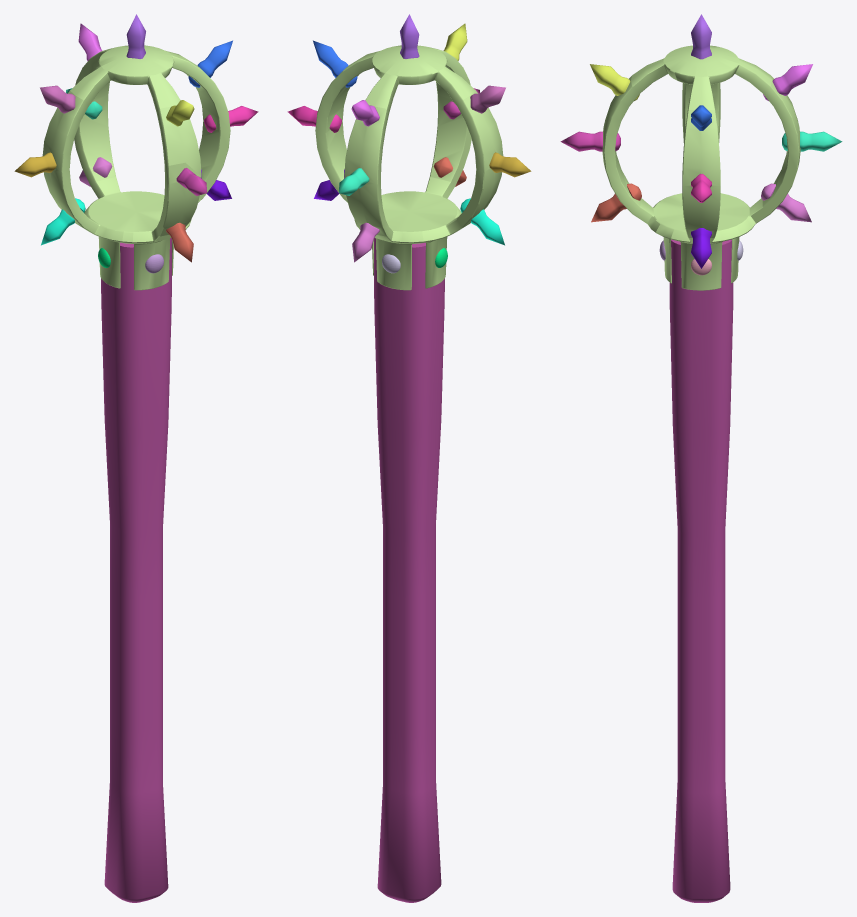
3 renders of one model, left to right at view 1: azimuth 30°, elevation 25°; view 2: azimuth 150°, elevation 25°; view 3: azimuth 270°, elevation 25°, orthographic.
Visible parts, largest first — view 1: Handle_0, split_parent_7, Spikes.001_0, Spikes.005_0, Spikes.004_0.074, Spikes.001_0.074, Spikes_0.073, Spikes.003_0, Spikes_0, Spikes 2_0.073, Spikes.002_0; view 2: Handle_0, split_parent_7, Spikes.001_0, Spikes.005_0, Spikes.004_0.074, Spikes.001_0.074, Spikes_0.073, Spikes.003_0.074, Spikes_0, Spikes 2_0, Spikes.002_0.074; view 3: Handle_0, split_parent_7, Spikes 2_0, Spikes 2_0.073, Spikes.003_0, Spikes.003_0.074, Spikes.002_0, Spikes.002_0.074, Spikes.005_0, Spikes.004_0.
Boxes of the visible parts, x1,y1,x2,y2 form: Handle_0: (101,238,171,902); split_parent_7: (42,45,230,290); Spikes.001_0: (188,40,232,87); Spikes.005_0: (126,14,145,58); Spikes.004_0.074: (41,198,85,245); Spikes.001_0.074: (40,85,75,113); Spikes_0.073: (14,152,56,177); Spikes.003_0: (166,222,193,262); Spikes_0: (204,106,258,132); Spikes 2_0.073: (176,168,206,195); Spikes.002_0: (78,23,102,60); Handle_0: (374,238,444,902); split_parent_7: (315,45,503,290); Spikes.001_0: (313,40,357,87); Spikes.005_0: (400,14,419,58); Spikes.004_0.074: (460,198,504,245); Spikes.001_0.074: (470,85,505,113); Spikes_0.073: (489,152,531,177); Spikes.003_0.074: (352,222,379,262); Spikes_0: (287,106,341,132); Spikes 2_0: (339,168,369,195); Spikes.002_0.074: (443,23,467,60); Handle_0: (669,239,733,902); split_parent_7: (602,45,800,290); Spikes 2_0: (782,131,842,151); Spikes 2_0.073: (560,131,620,151); Spikes.003_0: (591,183,641,222); Spikes.003_0.074: (761,183,811,222); Spikes.002_0: (763,64,812,100); Spikes.002_0.074: (590,64,639,100); Spikes.005_0: (691,14,711,59); Spikes.004_0: (691,228,711,268).
Bounding box in the file's own units: 0.2899 × 1 × 0.2899.
